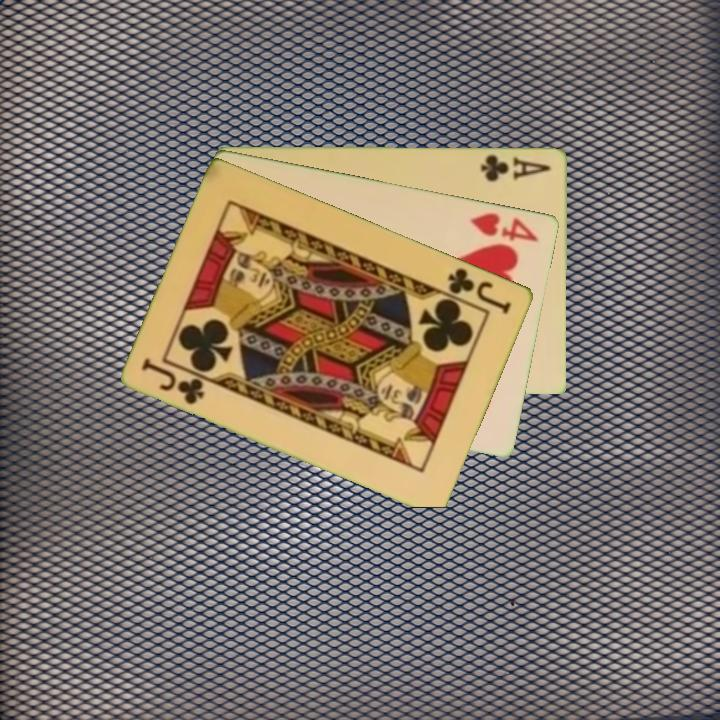4h: (467, 209, 541, 244)
Ac: (478, 151, 555, 184)
Jc: (138, 354, 208, 408), (444, 264, 515, 317)
